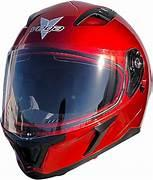Helmet: (5, 0, 152, 179)
